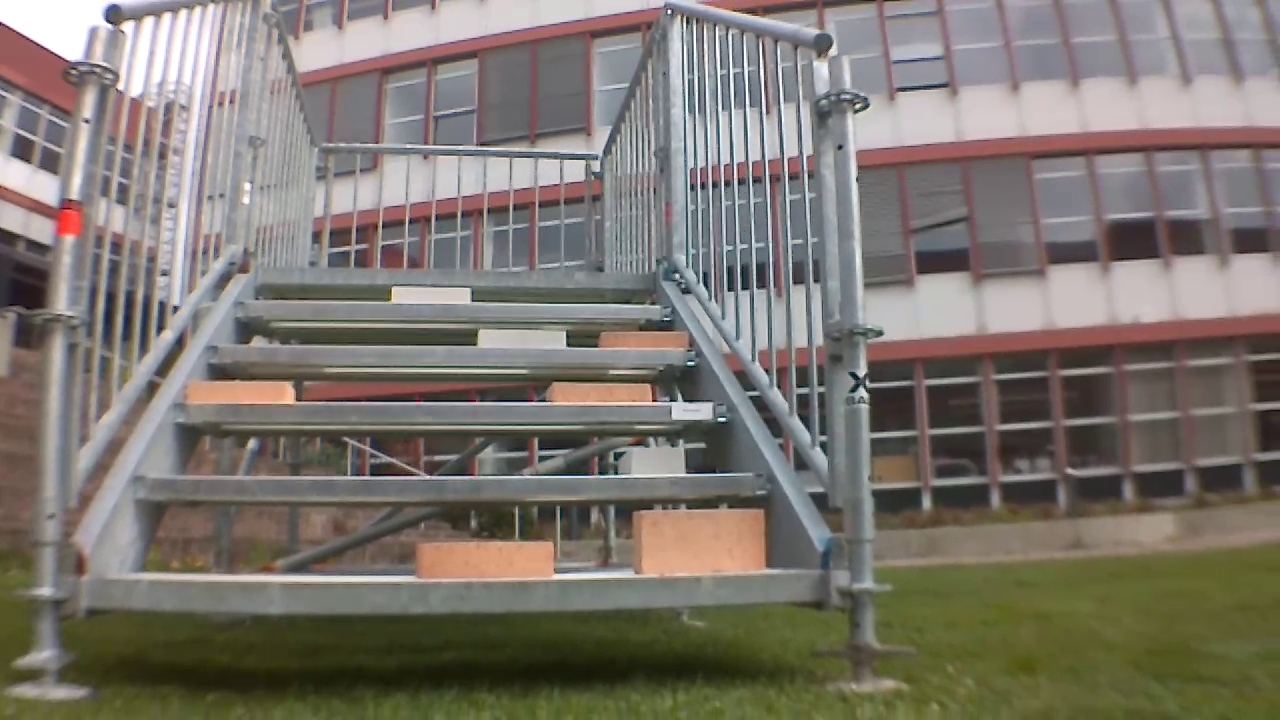brick: (626, 510, 770, 571), (416, 540, 555, 582), (181, 380, 293, 406), (539, 379, 647, 402), (593, 324, 691, 349), (471, 323, 568, 348), (606, 445, 687, 474), (388, 284, 472, 302)
edge: (58, 571, 833, 615), (127, 471, 782, 509), (167, 402, 738, 431), (241, 302, 677, 329), (196, 346, 712, 367), (256, 272, 654, 292)
stairs: (41, 6, 856, 659)
steps: (77, 264, 851, 609)
